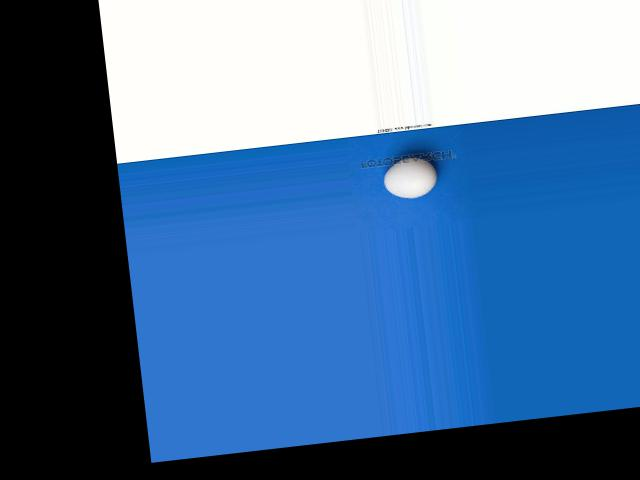egg: (382, 153, 439, 200)
